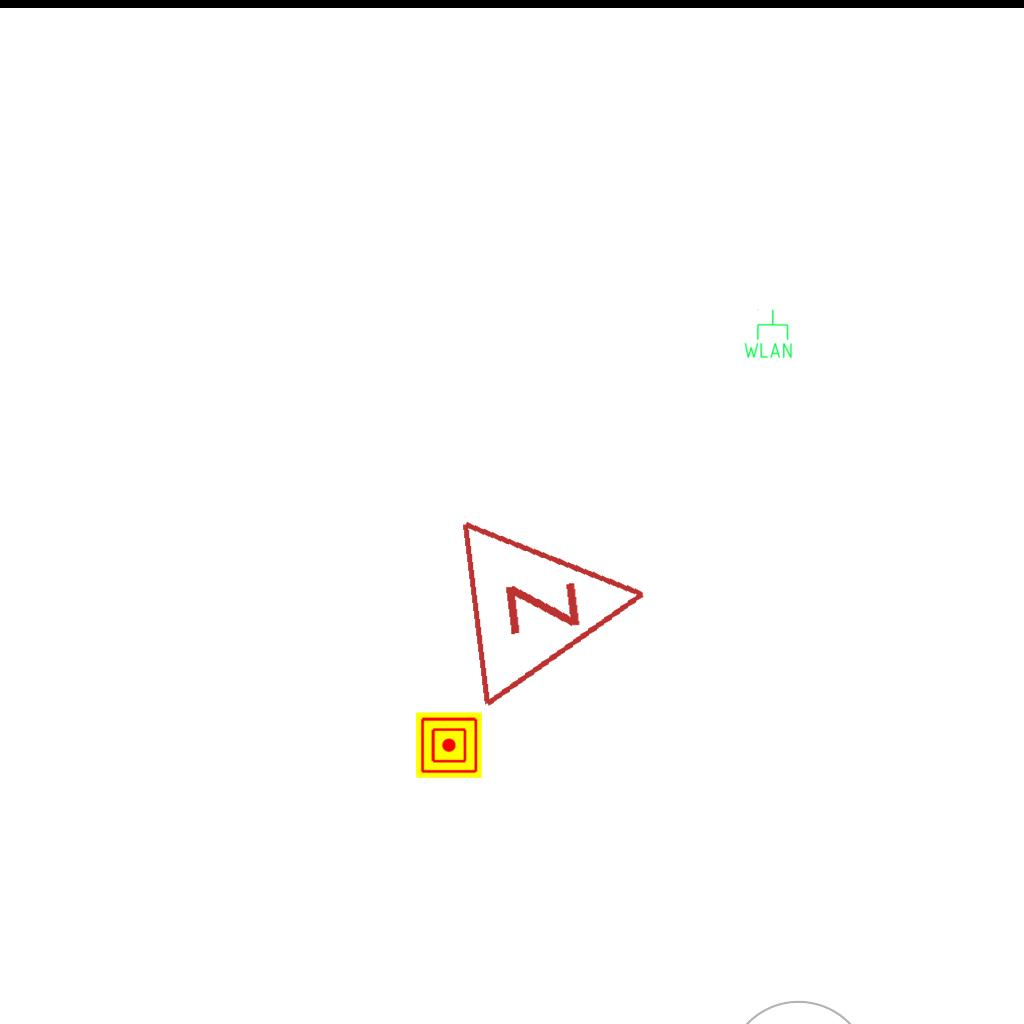NAM-Nichtautomatischer_Melder: (416, 712, 482, 778)
WLAN: (742, 308, 794, 360)
Zimmersignalleuchte: (446, 492, 670, 712)
